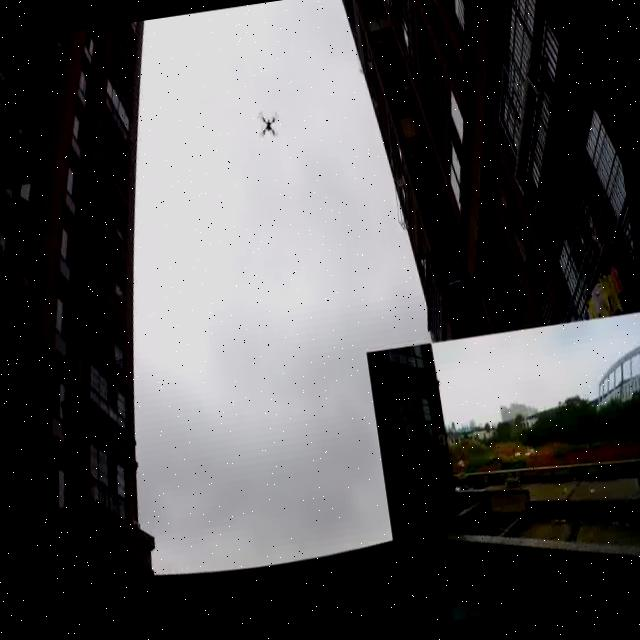drone: (233, 81, 303, 165)
